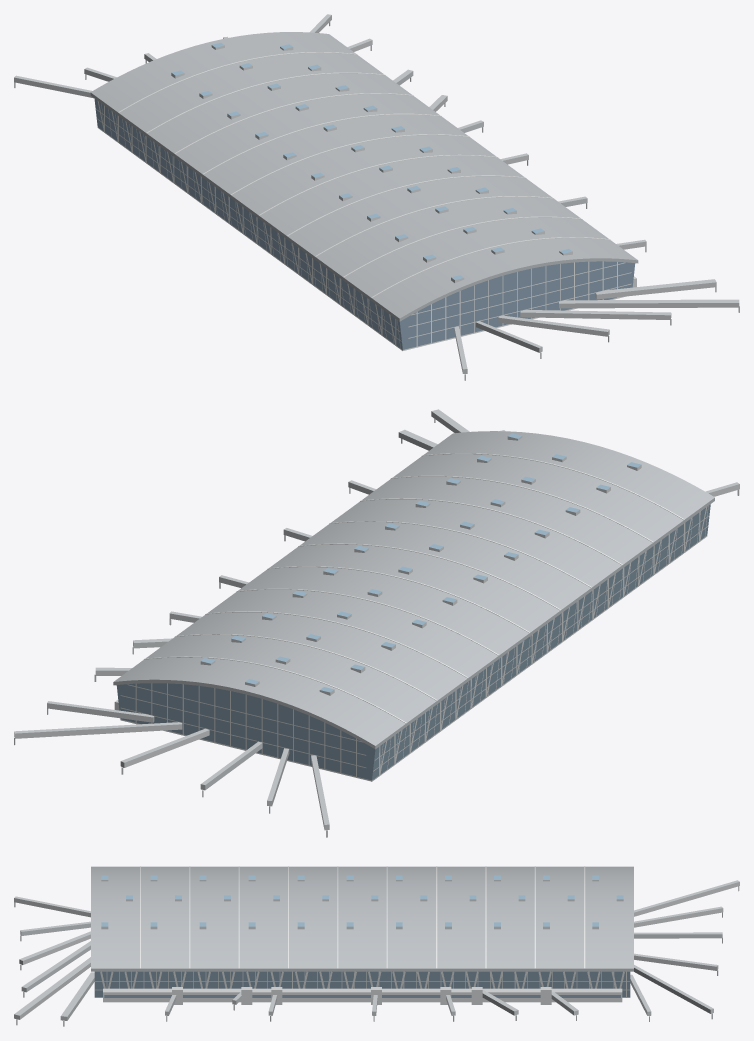
Rendered from london-heathrow-terminal-5.glb.
3 views of the same model, one above another, from view 1: azimuth 30°, elevation 25°; view 2: azimuth 150°, elevation 25°; view 3: azimuth 270°, elevation 25° (orthographic). The views are drawn at different scales.
Visible parts, largest first — view 1: Heathrow Terminal 5; view 2: Heathrow Terminal 5; view 3: Heathrow Terminal 5.
Part boxes in pixels (x1,y1,x2,y2): Heathrow Terminal 5: (14, 14, 739, 380); Heathrow Terminal 5: (14, 409, 739, 837); Heathrow Terminal 5: (14, 866, 739, 1026).
Size of the model in its own units: 235 by 41.6 by 528.
